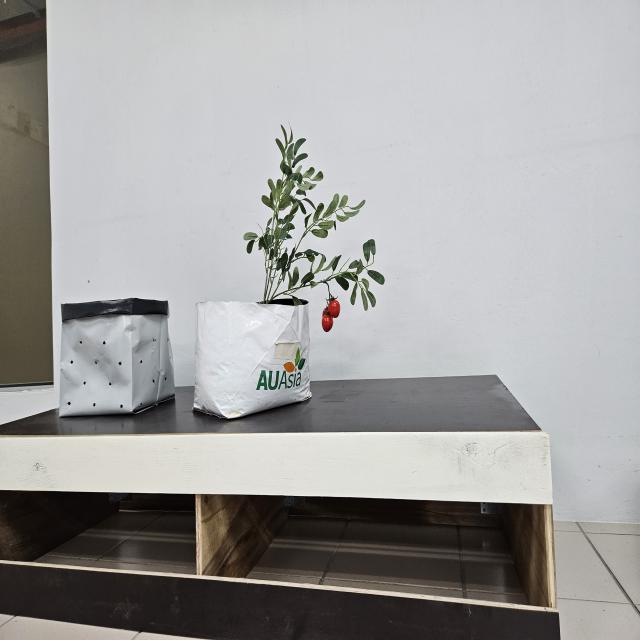Soilbag: (55, 299, 175, 420), (193, 301, 311, 422)
Tomato: (320, 296, 343, 334)
plant: (243, 123, 385, 333)
